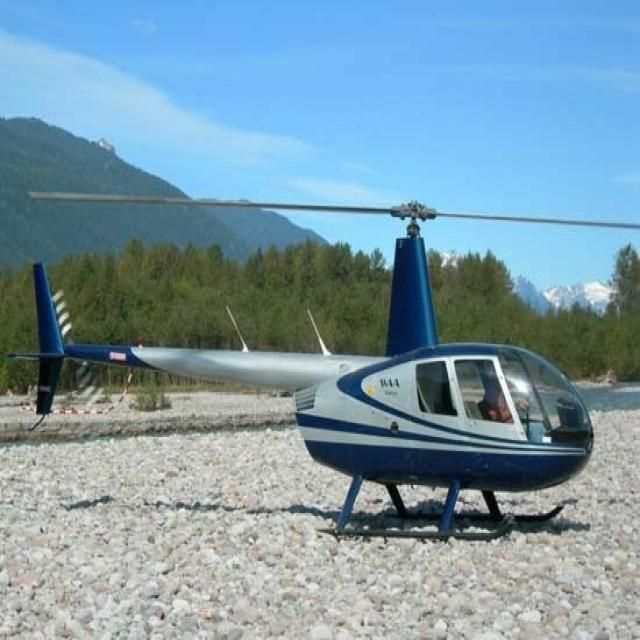CIV_HELO: (4, 200, 594, 544)
